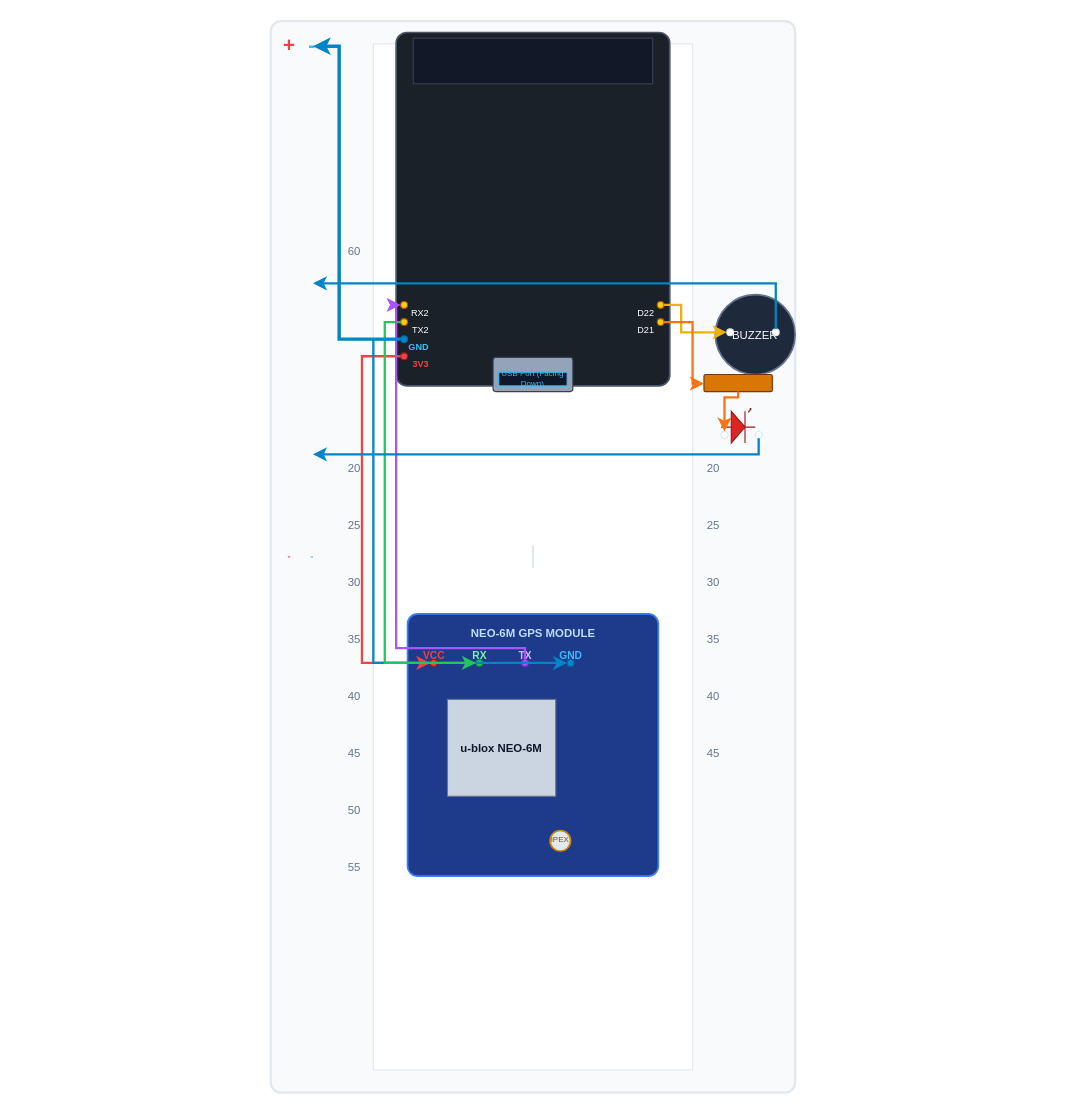
This 1066x1113 diagram has some shape labels left out. Each missing label, with the centre of its shape:
"330Ω" belongs at pixel 737 382.
"ESP32 PCB ANTENNA" belongs at pixel 532 60.
